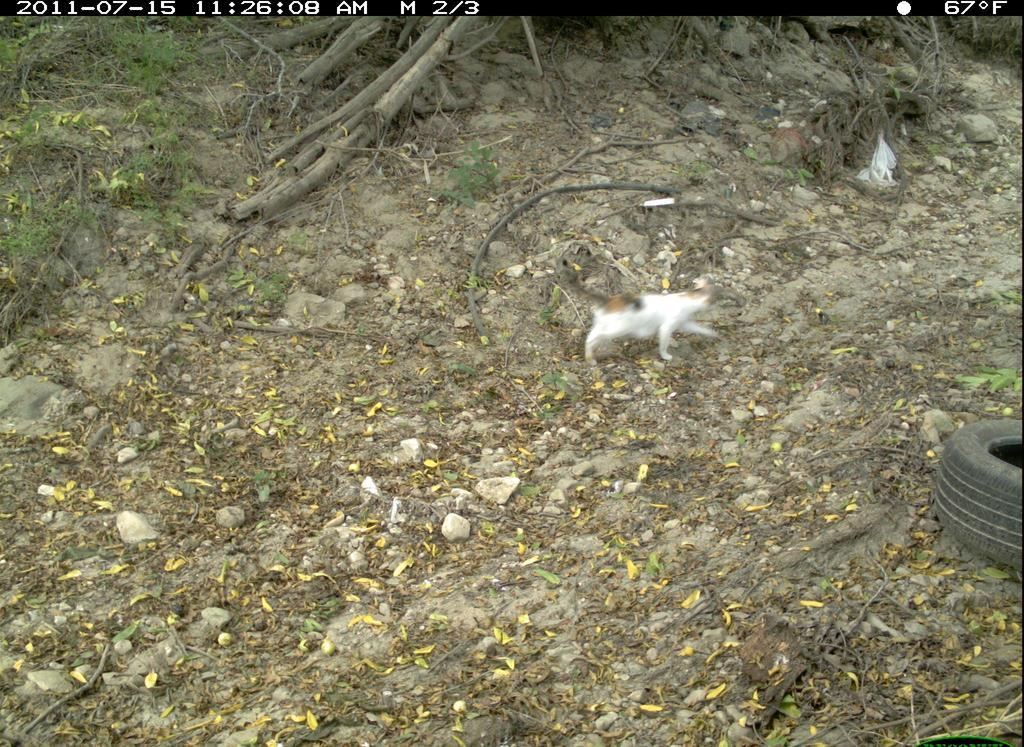cat: (560, 253, 769, 387)
